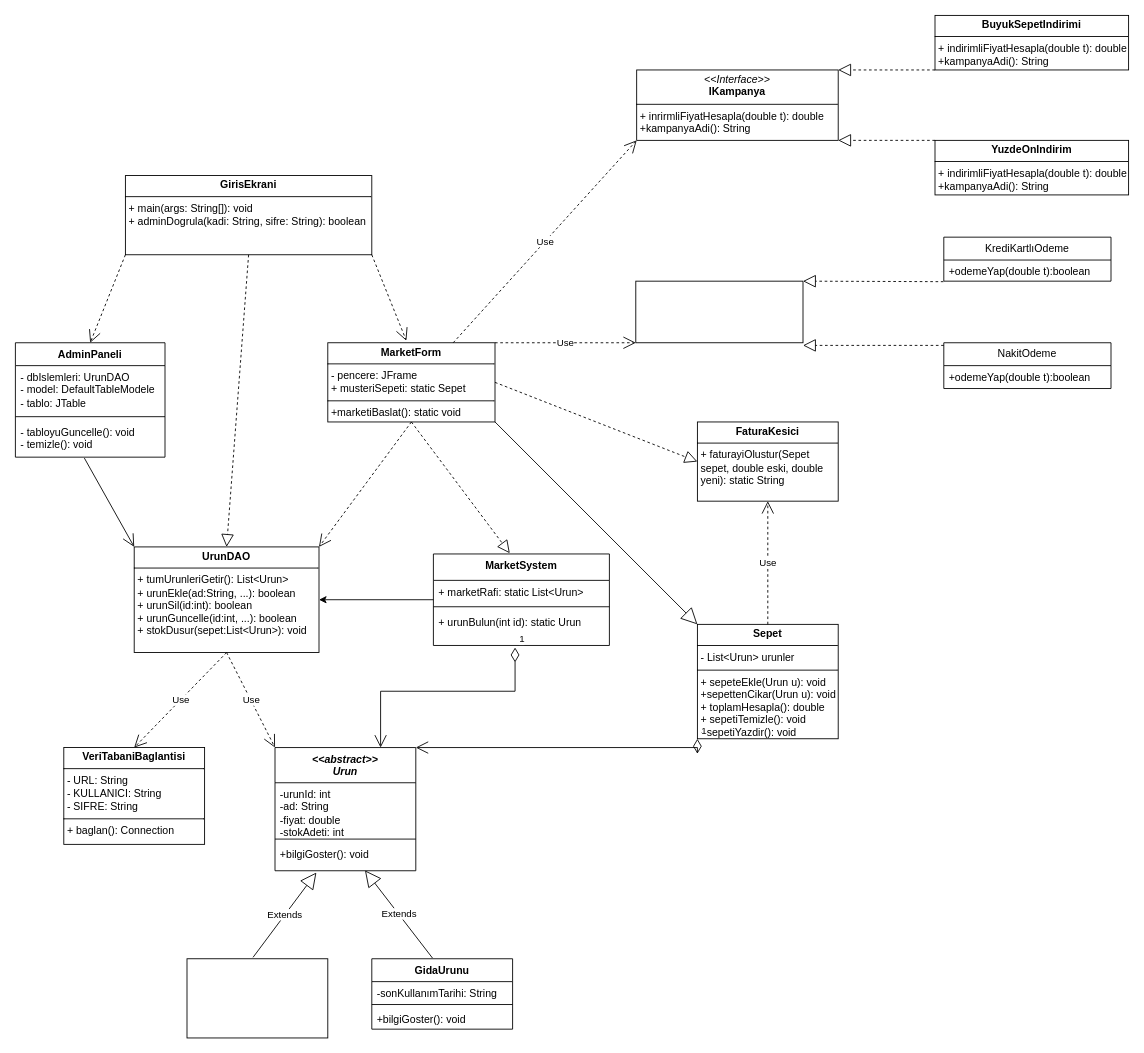
The diagram is 1144 pixels wide and 1053 high, and some of its shapes have lost their labels. The centre of each missing label's shape, as x and y in pixels:
<<Interface>> IOdemeYontemi +odemeYap(double t): boolean: the point at 719,311
ElektronikUrunu -marka: String -garantiSuresi: int +bilgiGoster(): void: the point at 257,998
